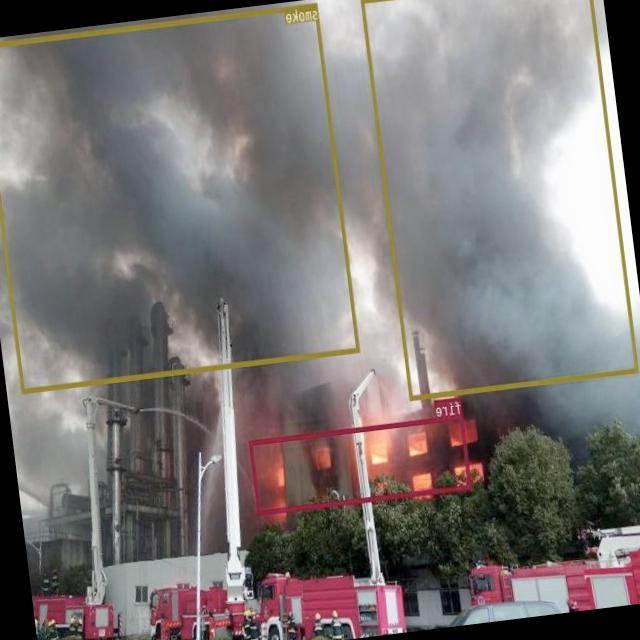fire: (250, 413, 472, 514)
smoke: (0, 1, 359, 392), (360, 0, 639, 398)
